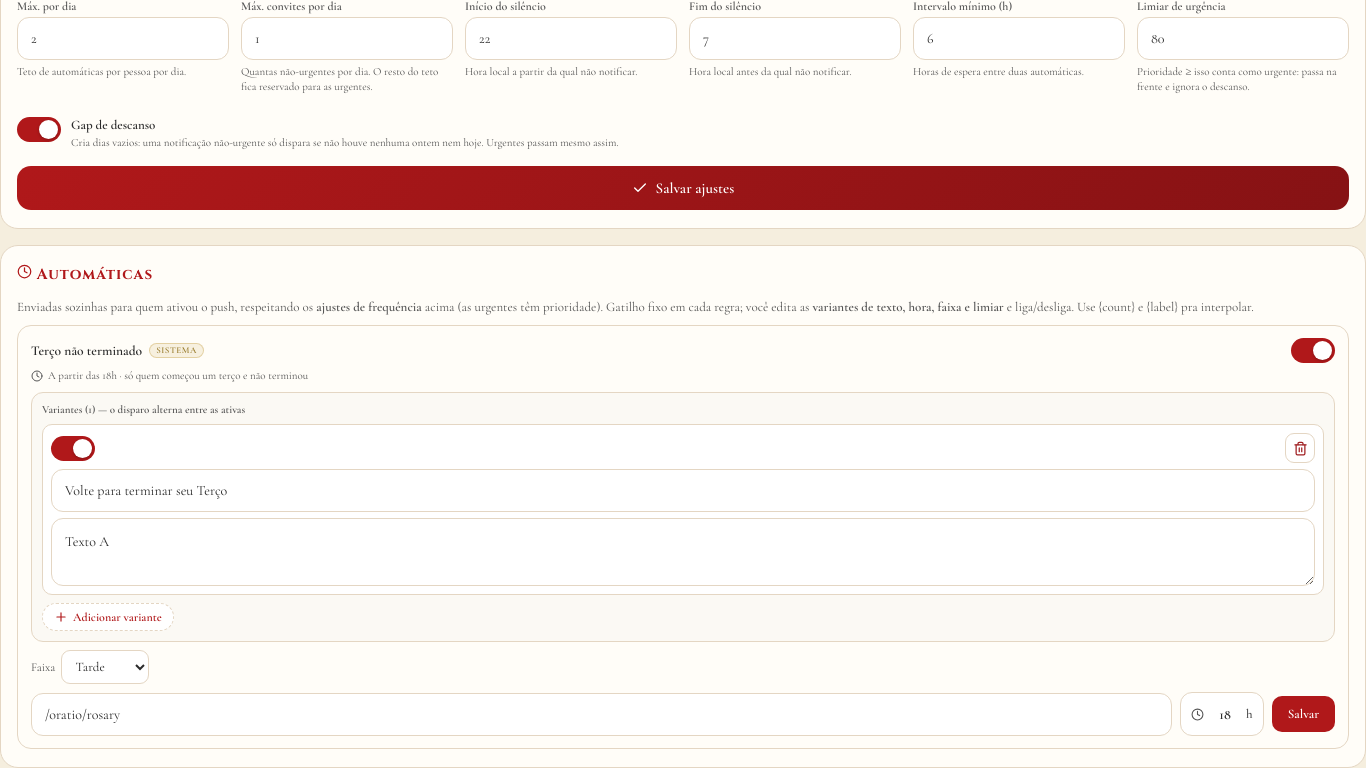
Scenario: AdminNotifications › adds a variant via createVariant and appends it to the list
The image size is (1366, 768).
(page scrolled)
Check: the text "Variantes (1) — o disparo alterna entre as ativas" is shown, box x1=42 y1=403 x2=245 y2=416
Click the button "Adicionar variante". click: (108,617)
box: x1=42 y1=603 x2=174 y2=631
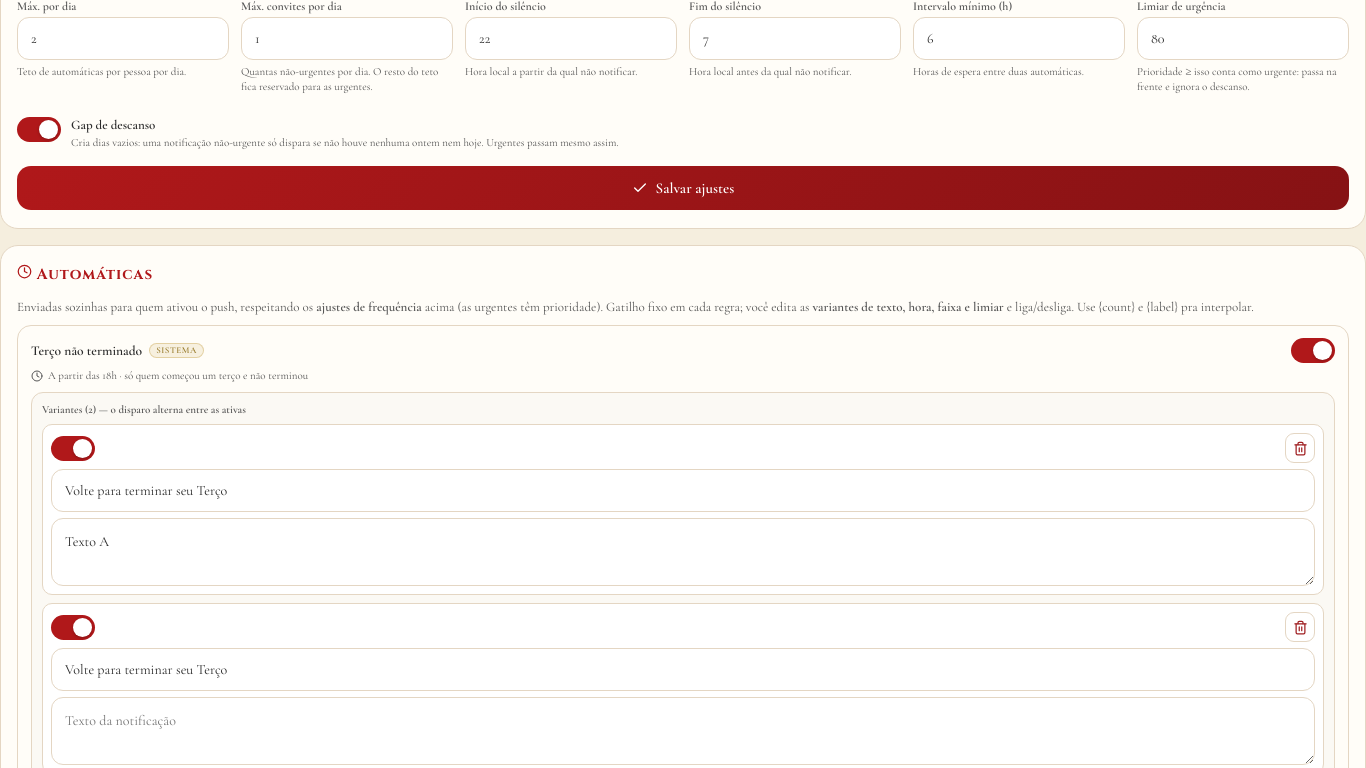
Check: the text "Variantes (2) — o disparo alterna entre as ativas" is shown, box x1=42 y1=403 x2=246 y2=416
